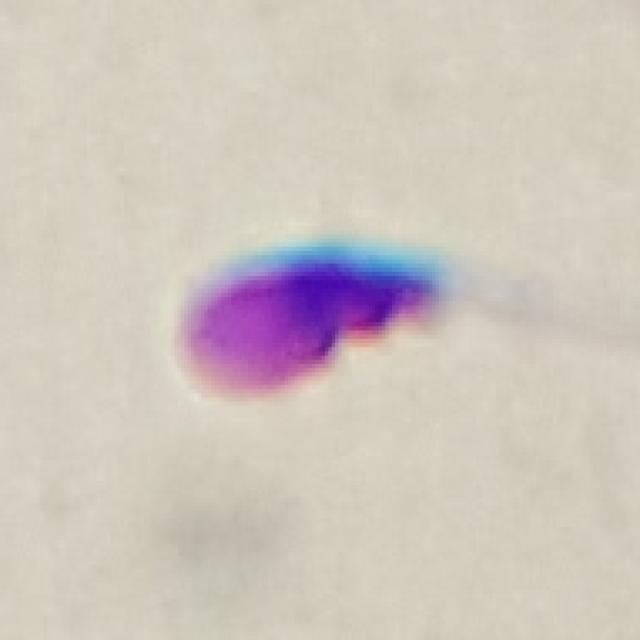abnormal sperm: (144, 233, 582, 406)
